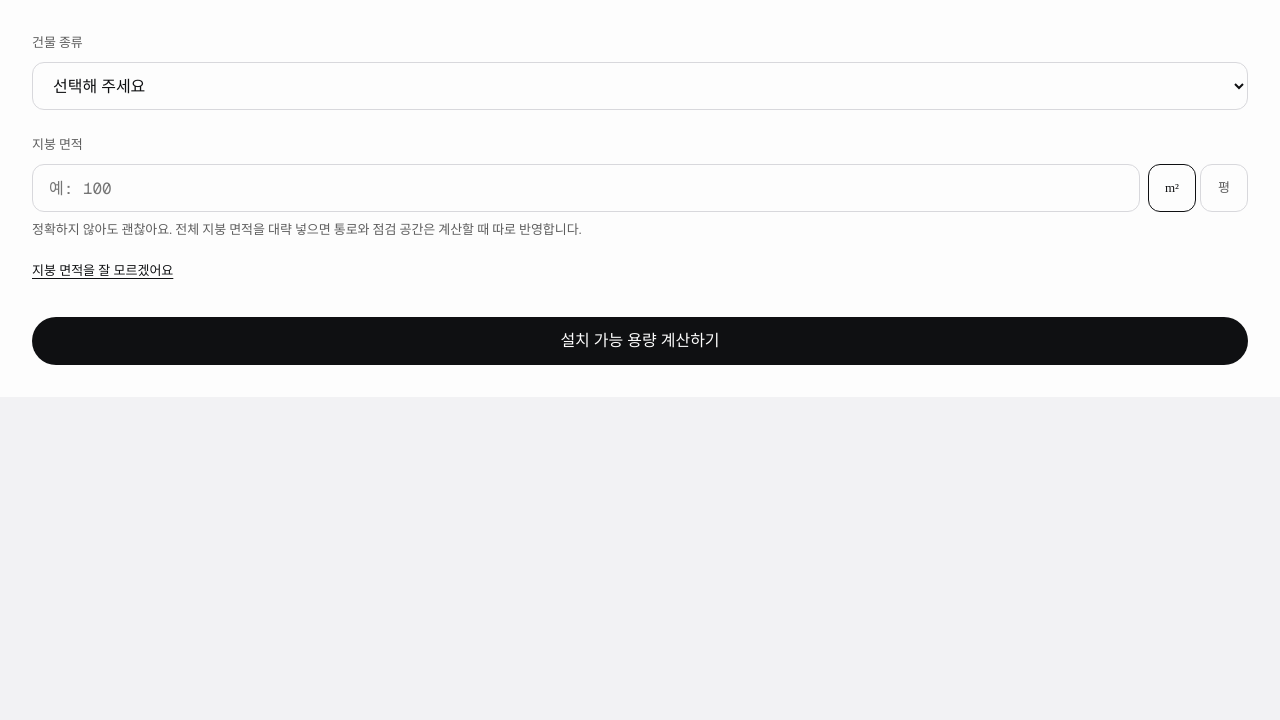
Test: SolarCalculator › shows the estimate status and every user input that affects the result
Select "상가·건물" in the dropdown labelled "건물 종류" at (640, 86), box [32, 62, 1248, 110]
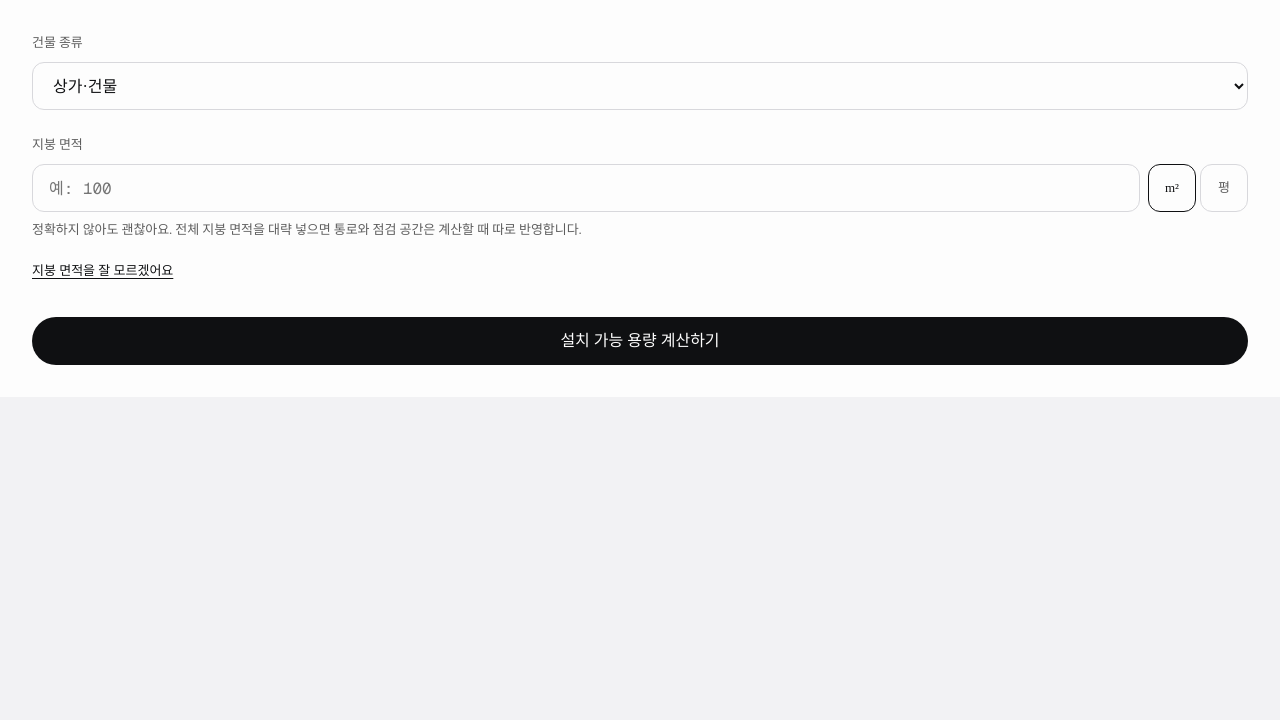
Type "100" into the number field labelled "지붕 면적" at (586, 188), box [32, 164, 1140, 212]
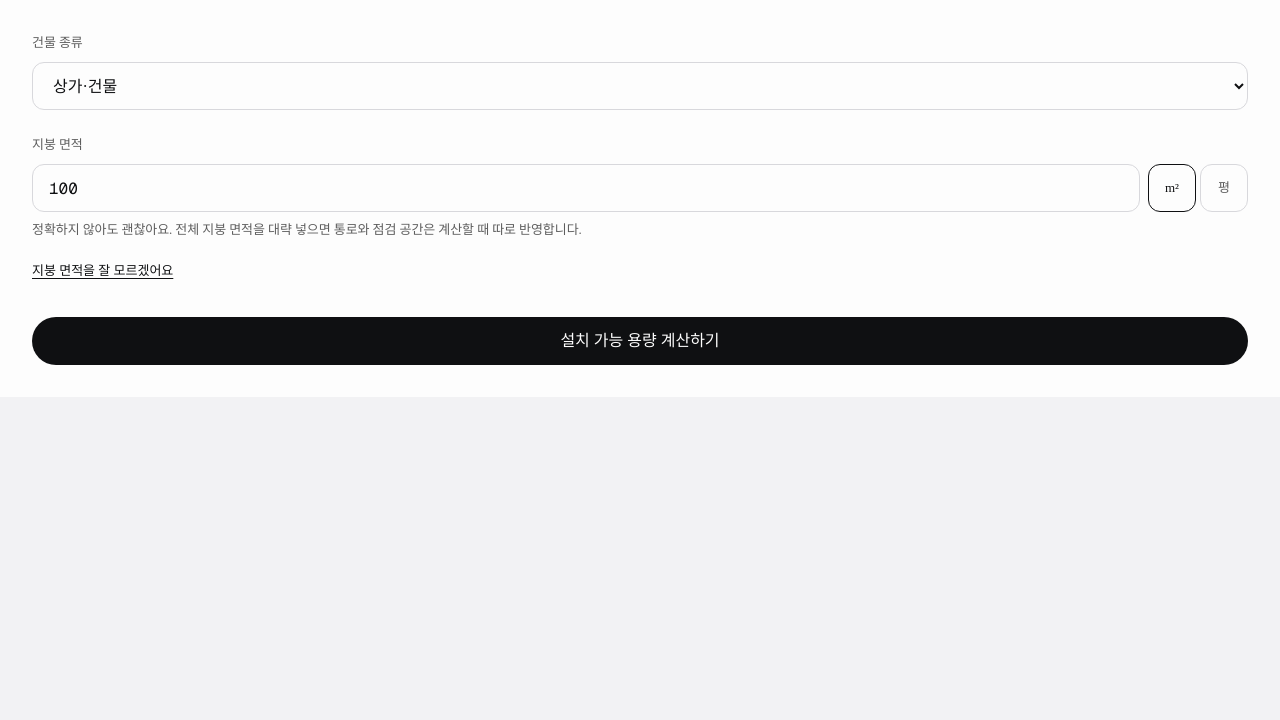
Click the button "설치 가능 용량 계산하기" at (640, 341), box [32, 317, 1248, 365]
(page scrolled)
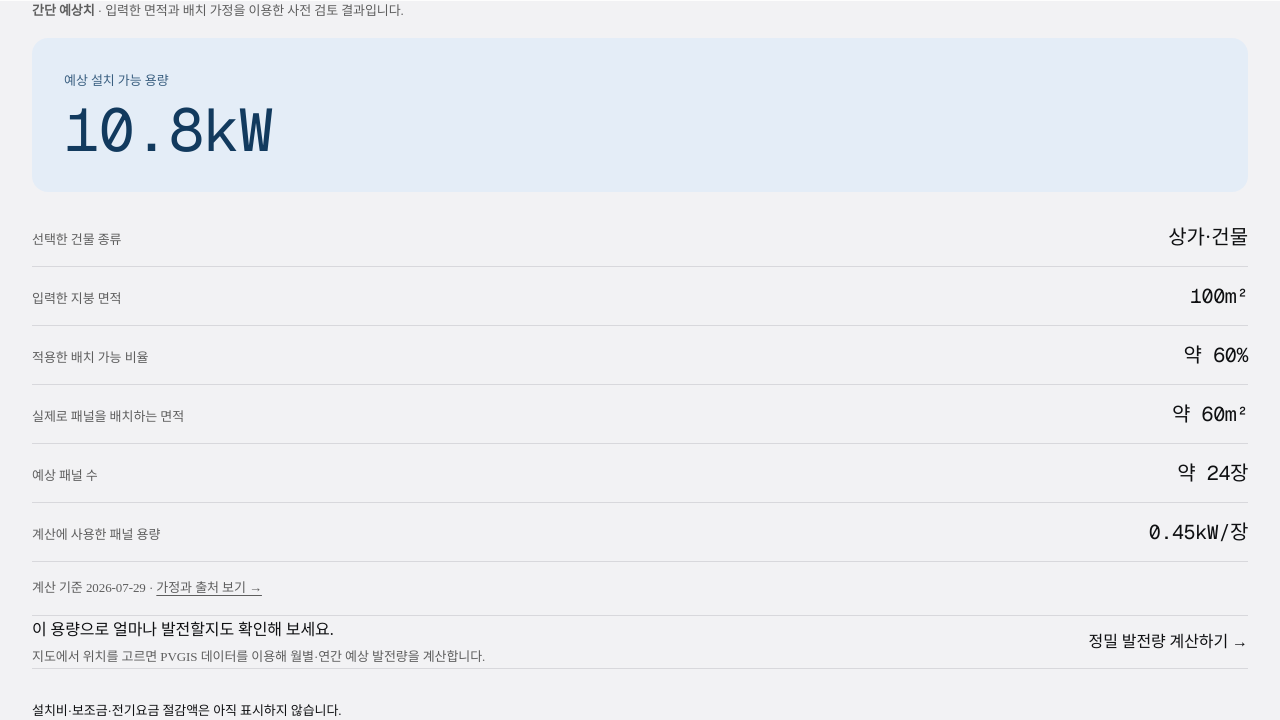
Expected: the text "간단 예상치" is shown, [32, 3, 95, 18]
Expected: the text "상가·건물" is shown, [1168, 220, 1248, 254]
Expected: the text "100m²" is shown, [1190, 279, 1248, 313]
